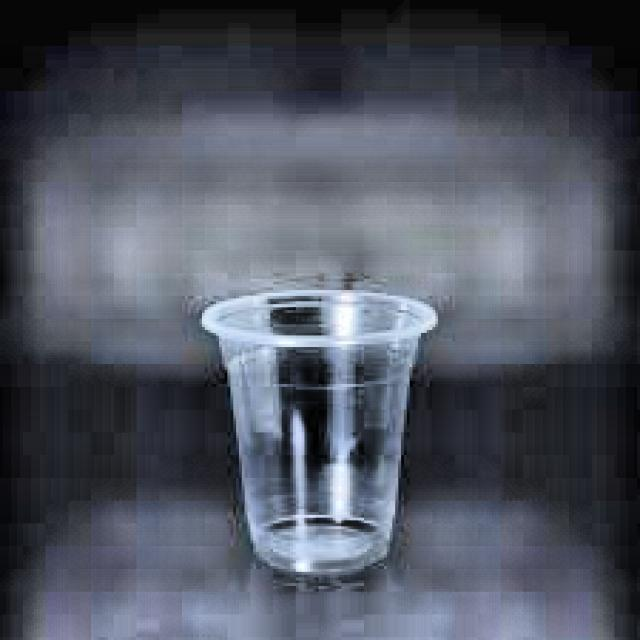plastic cup: (201, 290, 435, 573)
